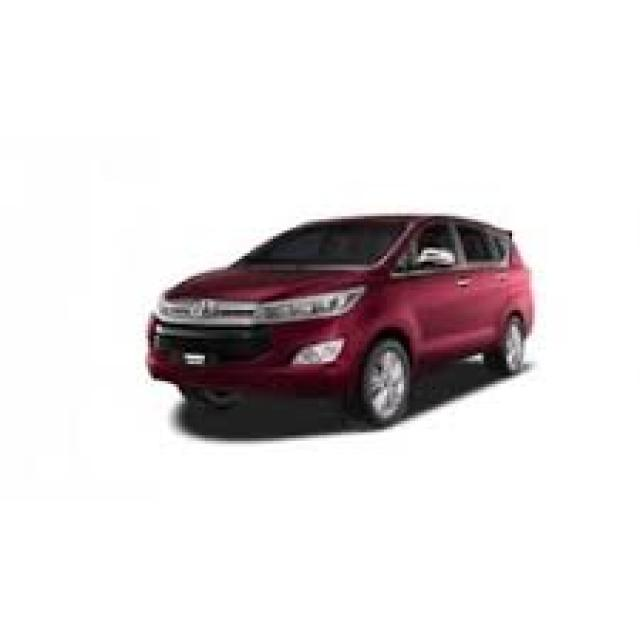light_vehicle: (147, 214, 534, 430)
